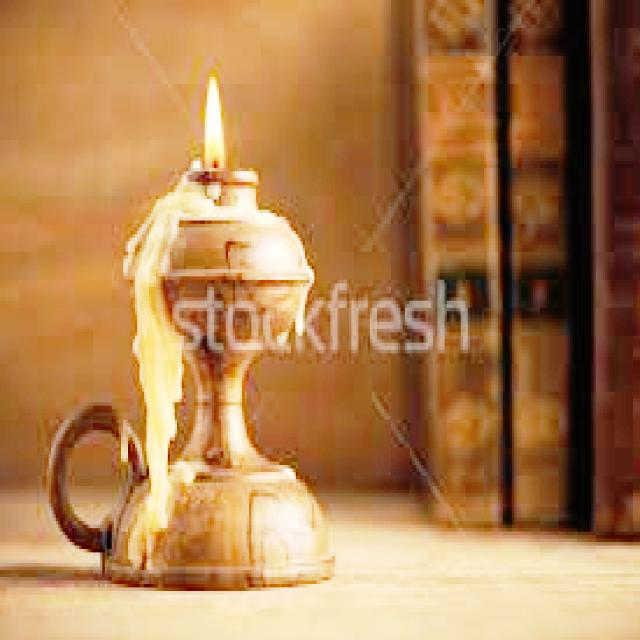api: (187, 68, 241, 166)
